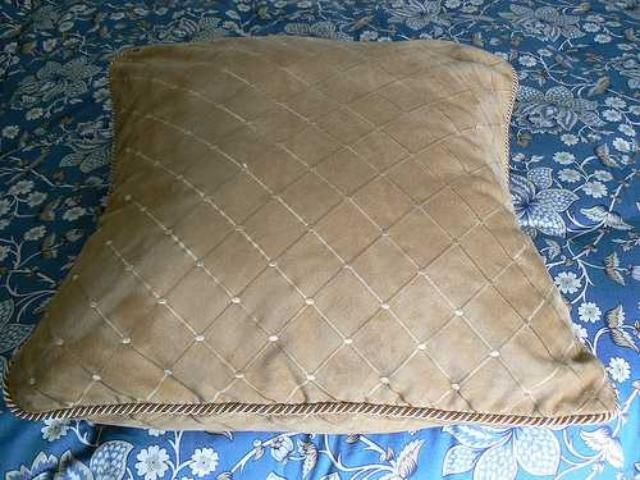pillow: (6, 33, 616, 433)
